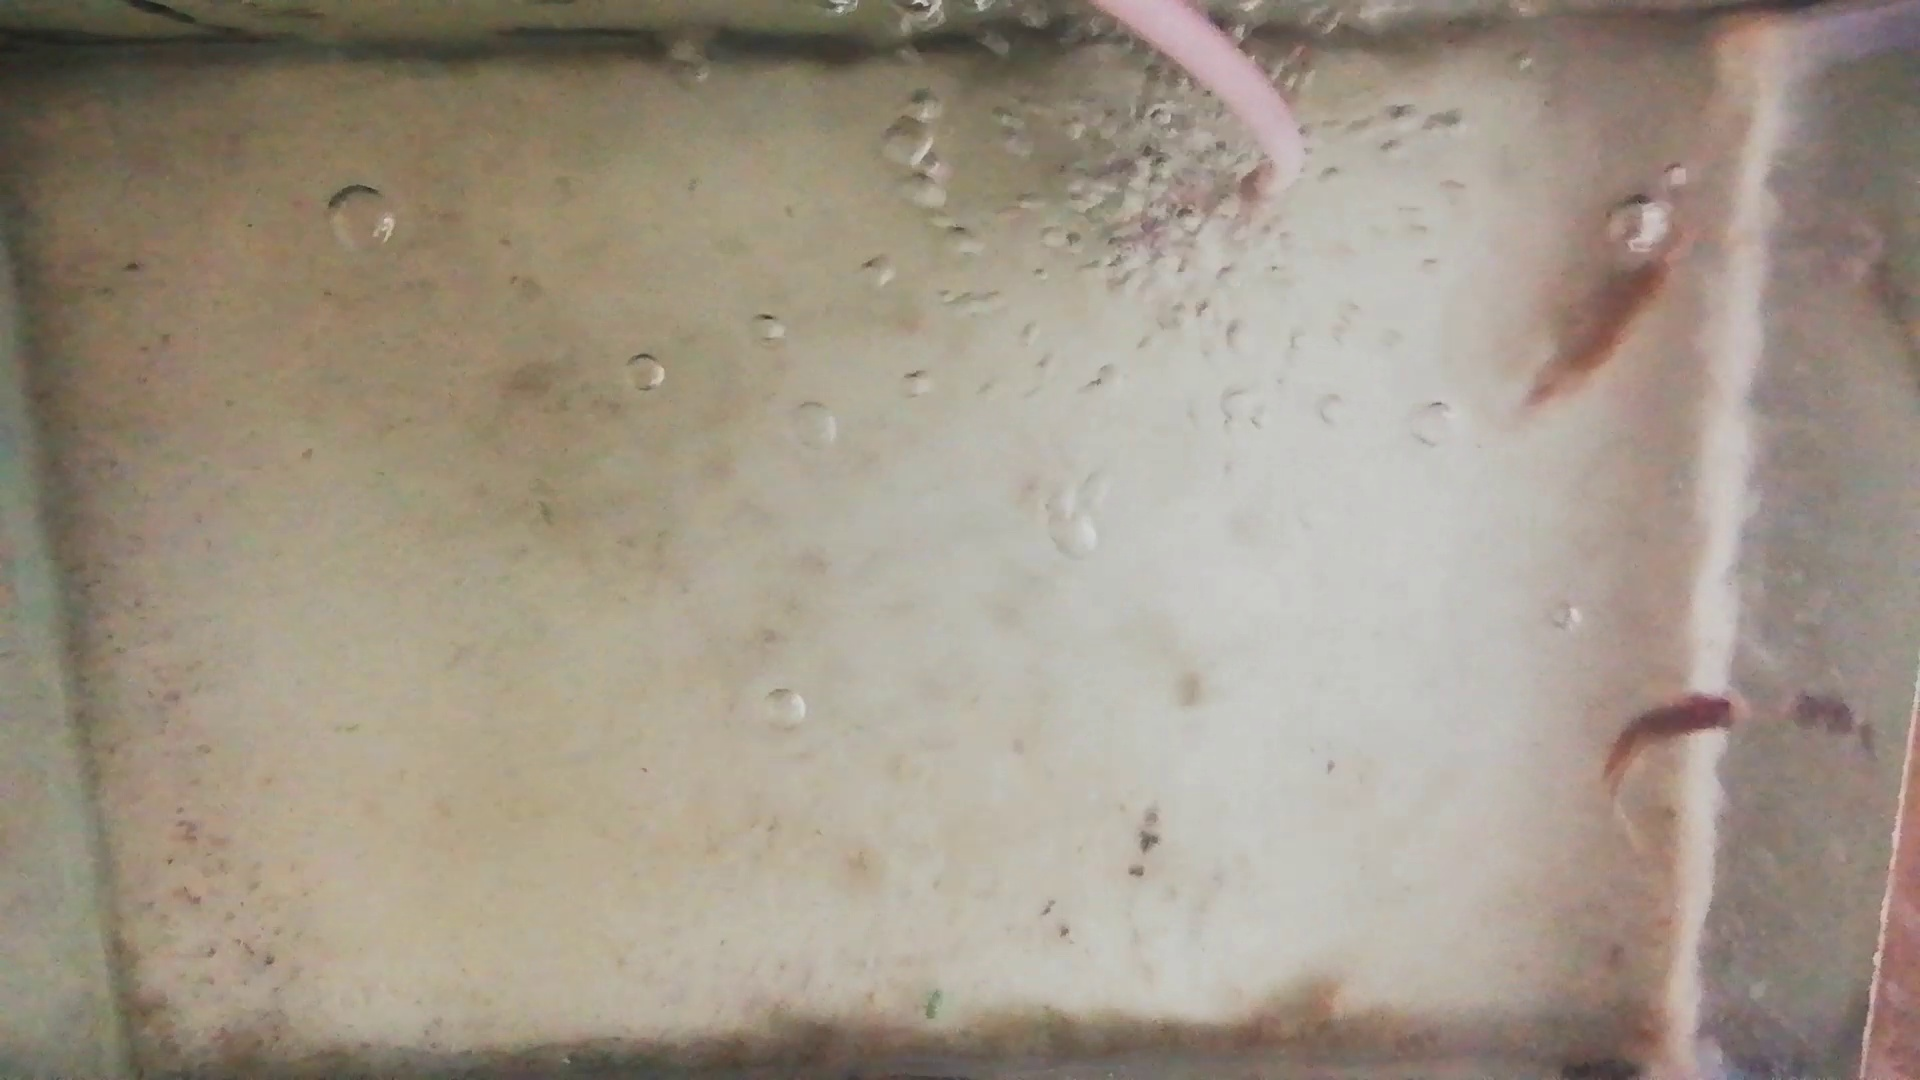fish: (1532, 223, 1684, 413), (1602, 691, 1753, 807)
